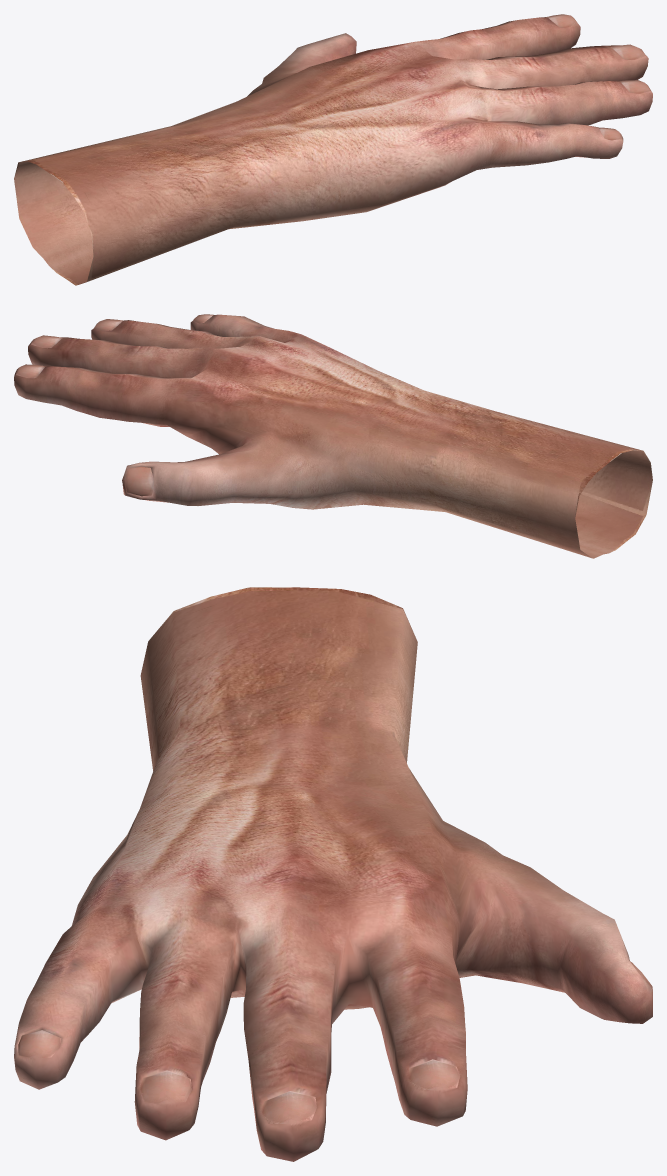
The model's file is hand.glb.
3 views of the same model, one above another, from view 1: azimuth 30°, elevation 25°; view 2: azimuth 150°, elevation 25°; view 3: azimuth 270°, elevation 25° (orthographic). The views are drawn at different scales.
Parts seen in each view (by area): view 1: Cube.000; view 2: Cube.000; view 3: Cube.000.
Part boxes in pixels (x1=…): Cube.000: x1=14, y1=14, x2=652, y2=285; Cube.000: x1=14, y1=314, x2=652, y2=558; Cube.000: x1=14, y1=587, x2=652, y2=1161.
Size of the model in its own units: 0.256 by 0.0457 by 0.1369.
Materials: 1 (1 with a texture image).
